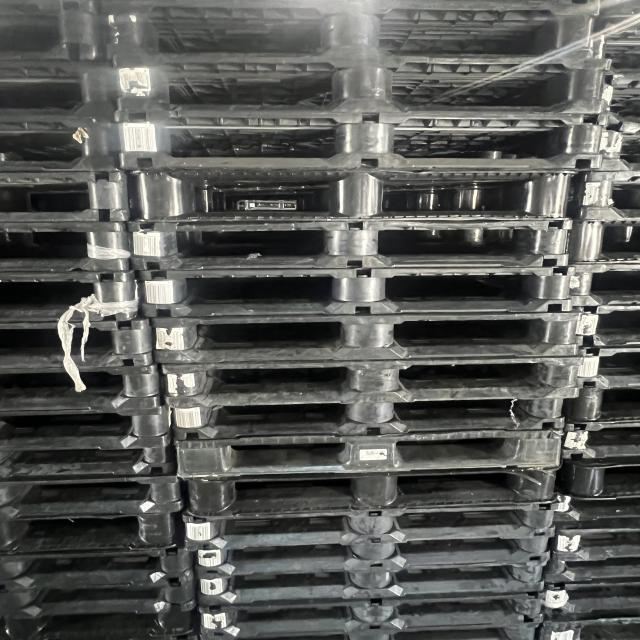igps: (105, 48, 618, 117), (110, 108, 612, 174), (98, 0, 605, 65), (146, 308, 587, 370), (134, 262, 580, 322), (127, 167, 582, 225), (124, 217, 577, 273), (160, 353, 587, 410), (183, 464, 564, 524), (170, 426, 570, 482), (180, 496, 562, 554), (168, 393, 569, 444), (190, 529, 558, 582), (197, 588, 549, 640), (193, 557, 550, 608), (0, 564, 204, 622), (197, 608, 547, 640), (0, 542, 202, 595), (0, 428, 177, 484), (0, 470, 187, 523), (0, 509, 190, 560), (0, 402, 179, 456), (0, 358, 171, 414), (0, 312, 157, 372), (0, 266, 147, 327), (0, 599, 207, 640), (0, 55, 125, 121), (0, 167, 134, 227), (0, 218, 136, 276), (0, 113, 127, 175), (0, 0, 115, 65), (533, 572, 640, 626), (546, 452, 640, 504), (558, 168, 640, 224), (551, 513, 640, 564), (565, 302, 640, 361), (557, 384, 640, 434), (547, 492, 640, 536), (534, 549, 640, 587), (564, 215, 640, 267), (560, 260, 640, 309), (555, 418, 640, 461), (572, 342, 640, 393), (530, 613, 639, 640)
